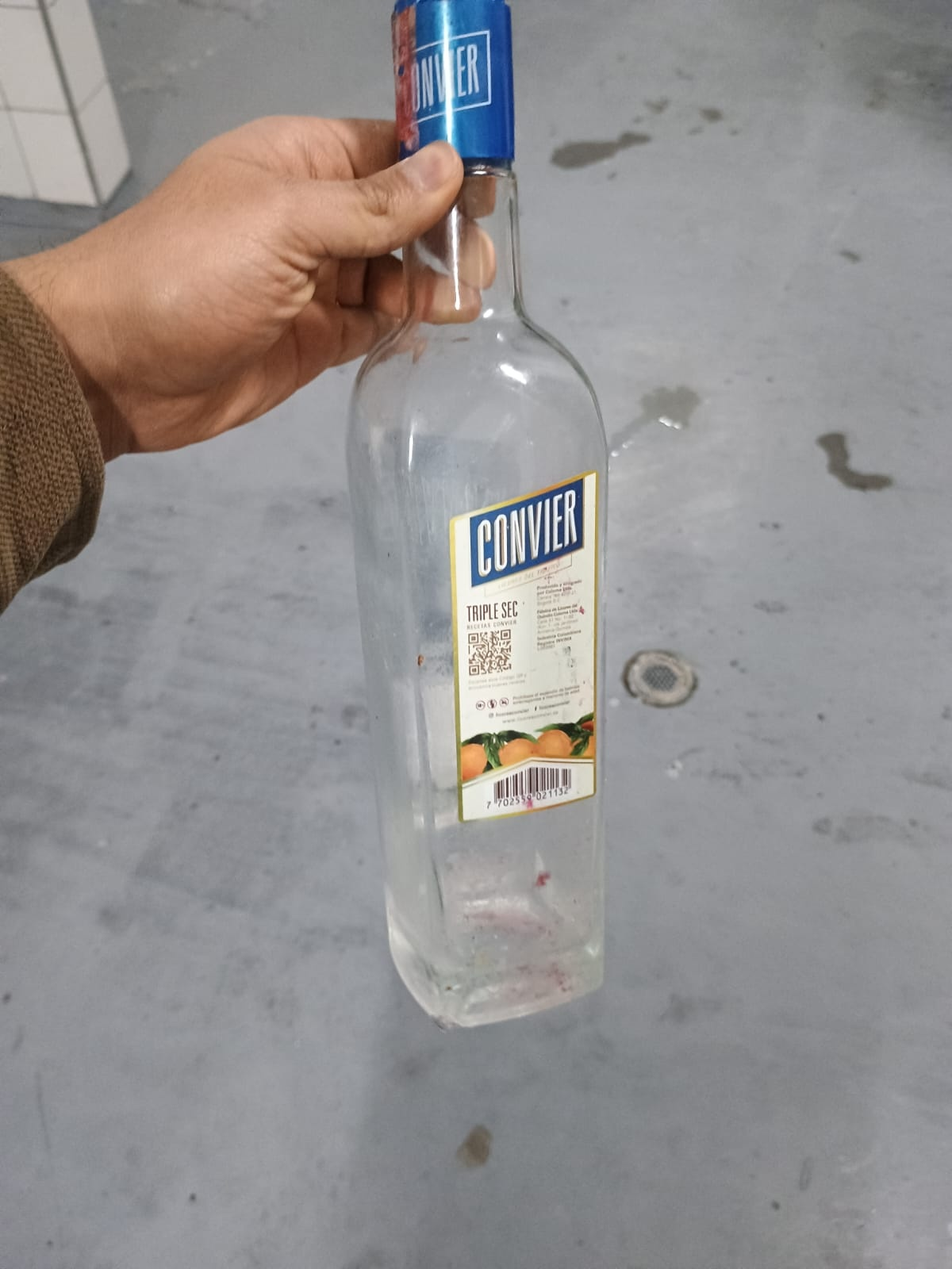Vidrio: (347, 0, 605, 1027)
